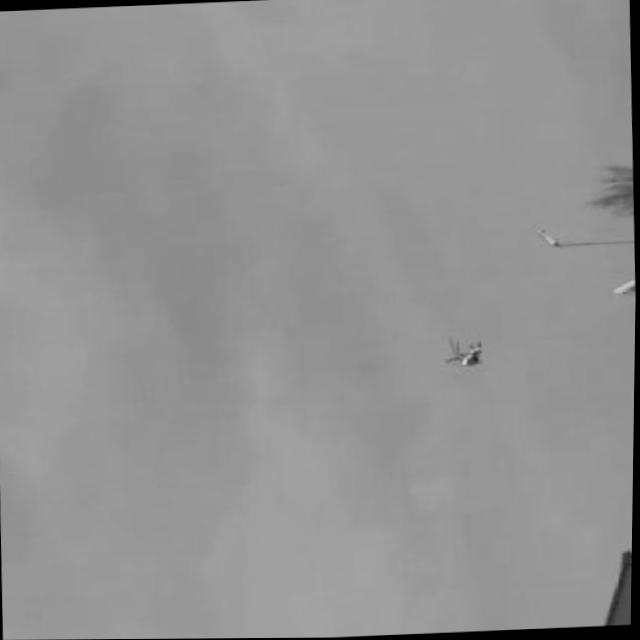helikopter: (438, 335, 494, 377)
